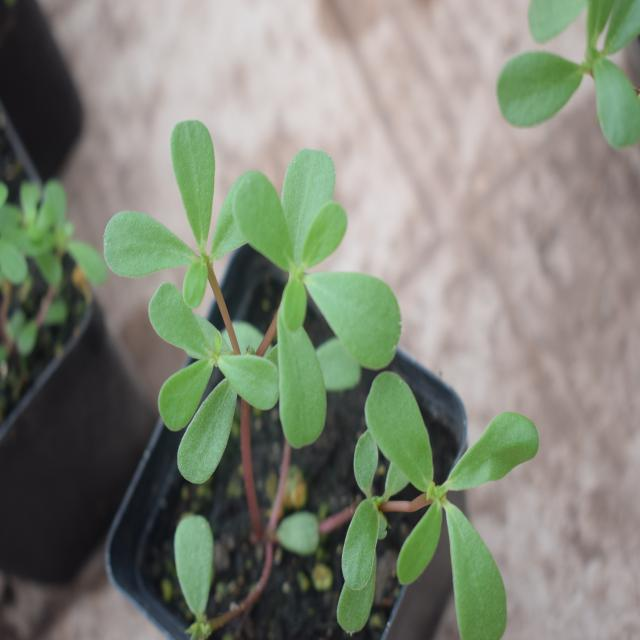purslane: (123, 112, 540, 635)
